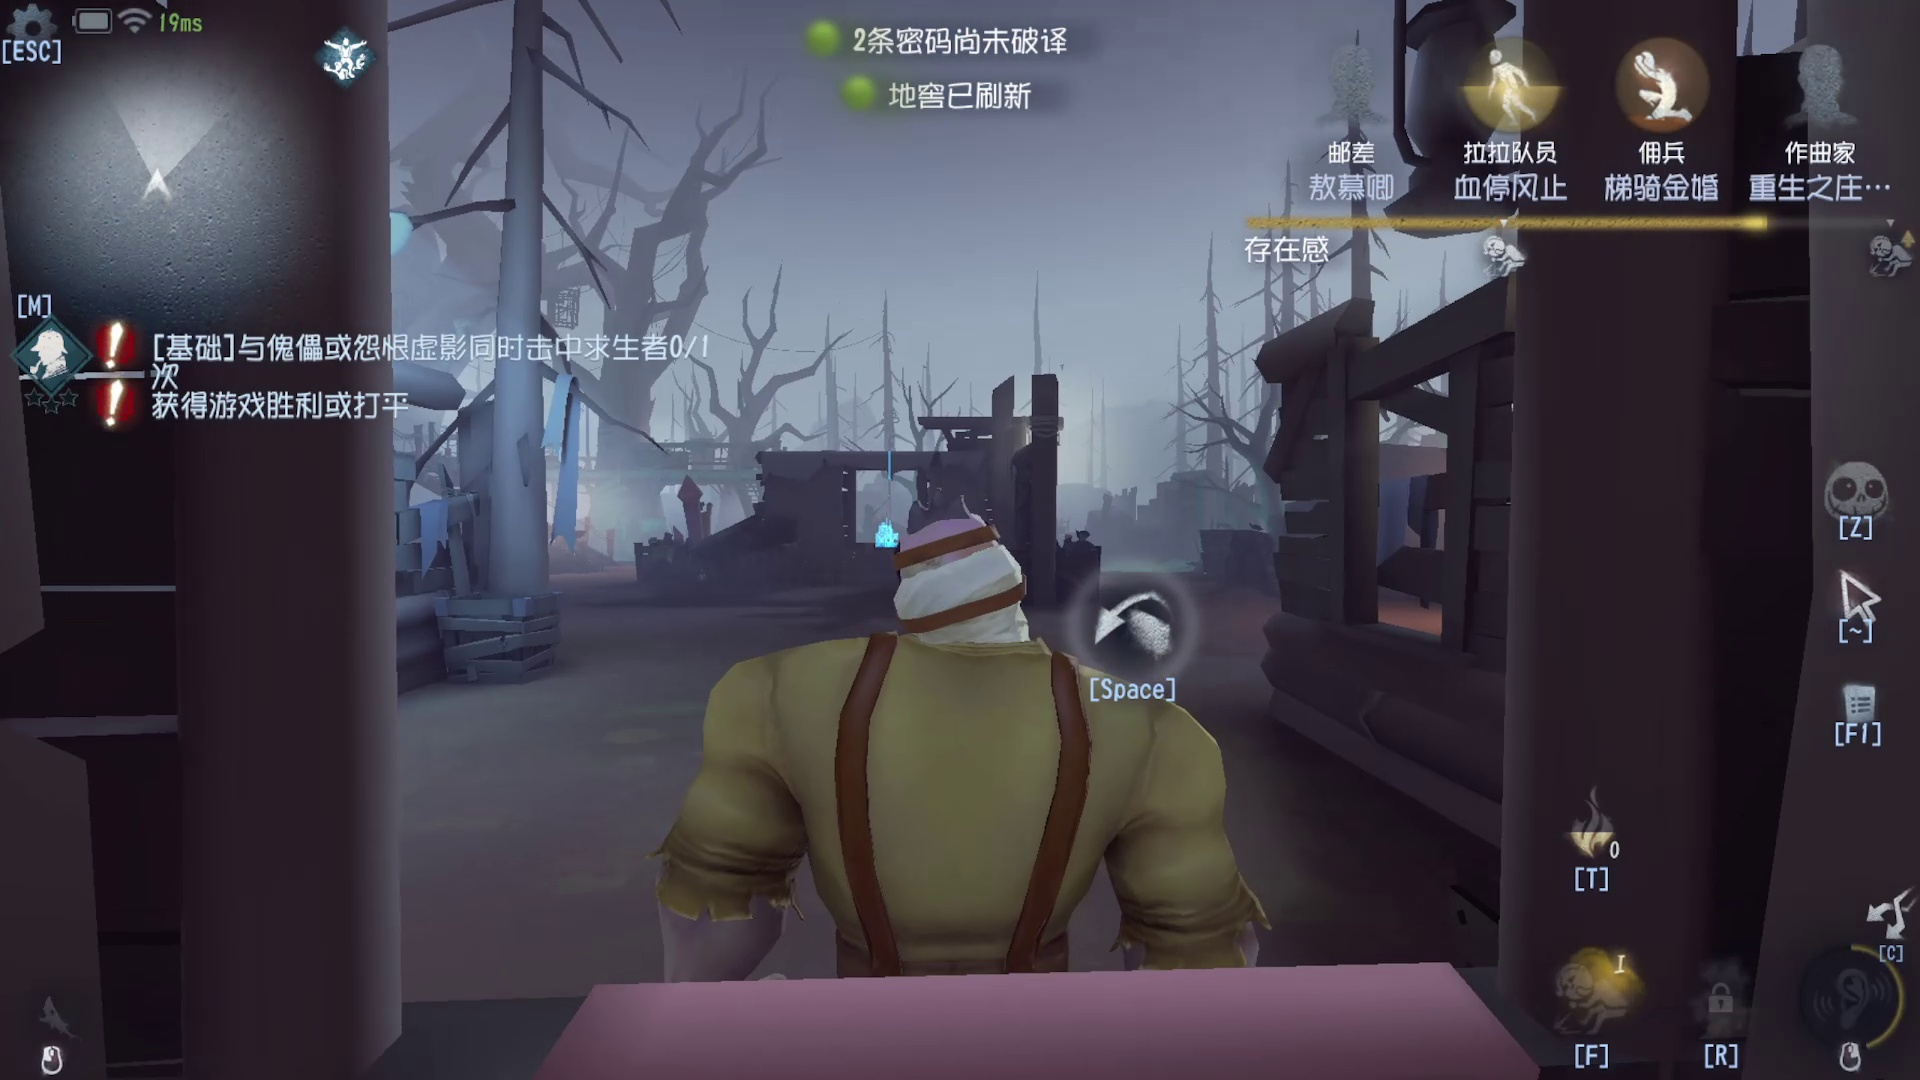密码机: (847, 394, 922, 564)
